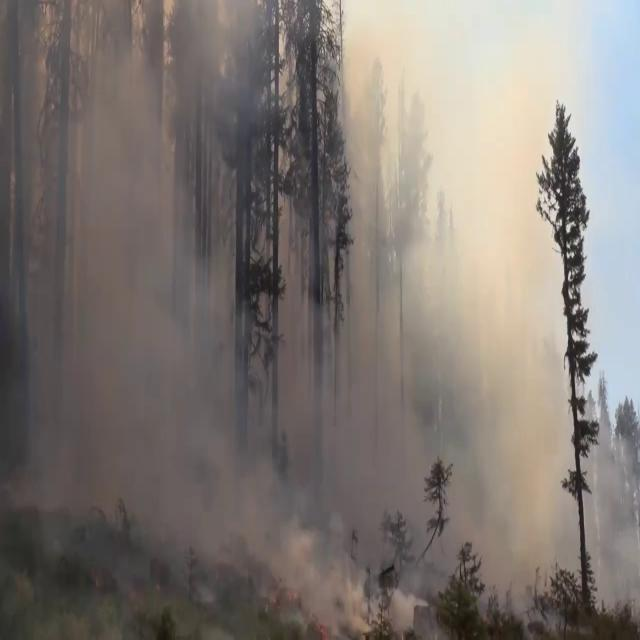Smoke: (1, 2, 634, 616)
